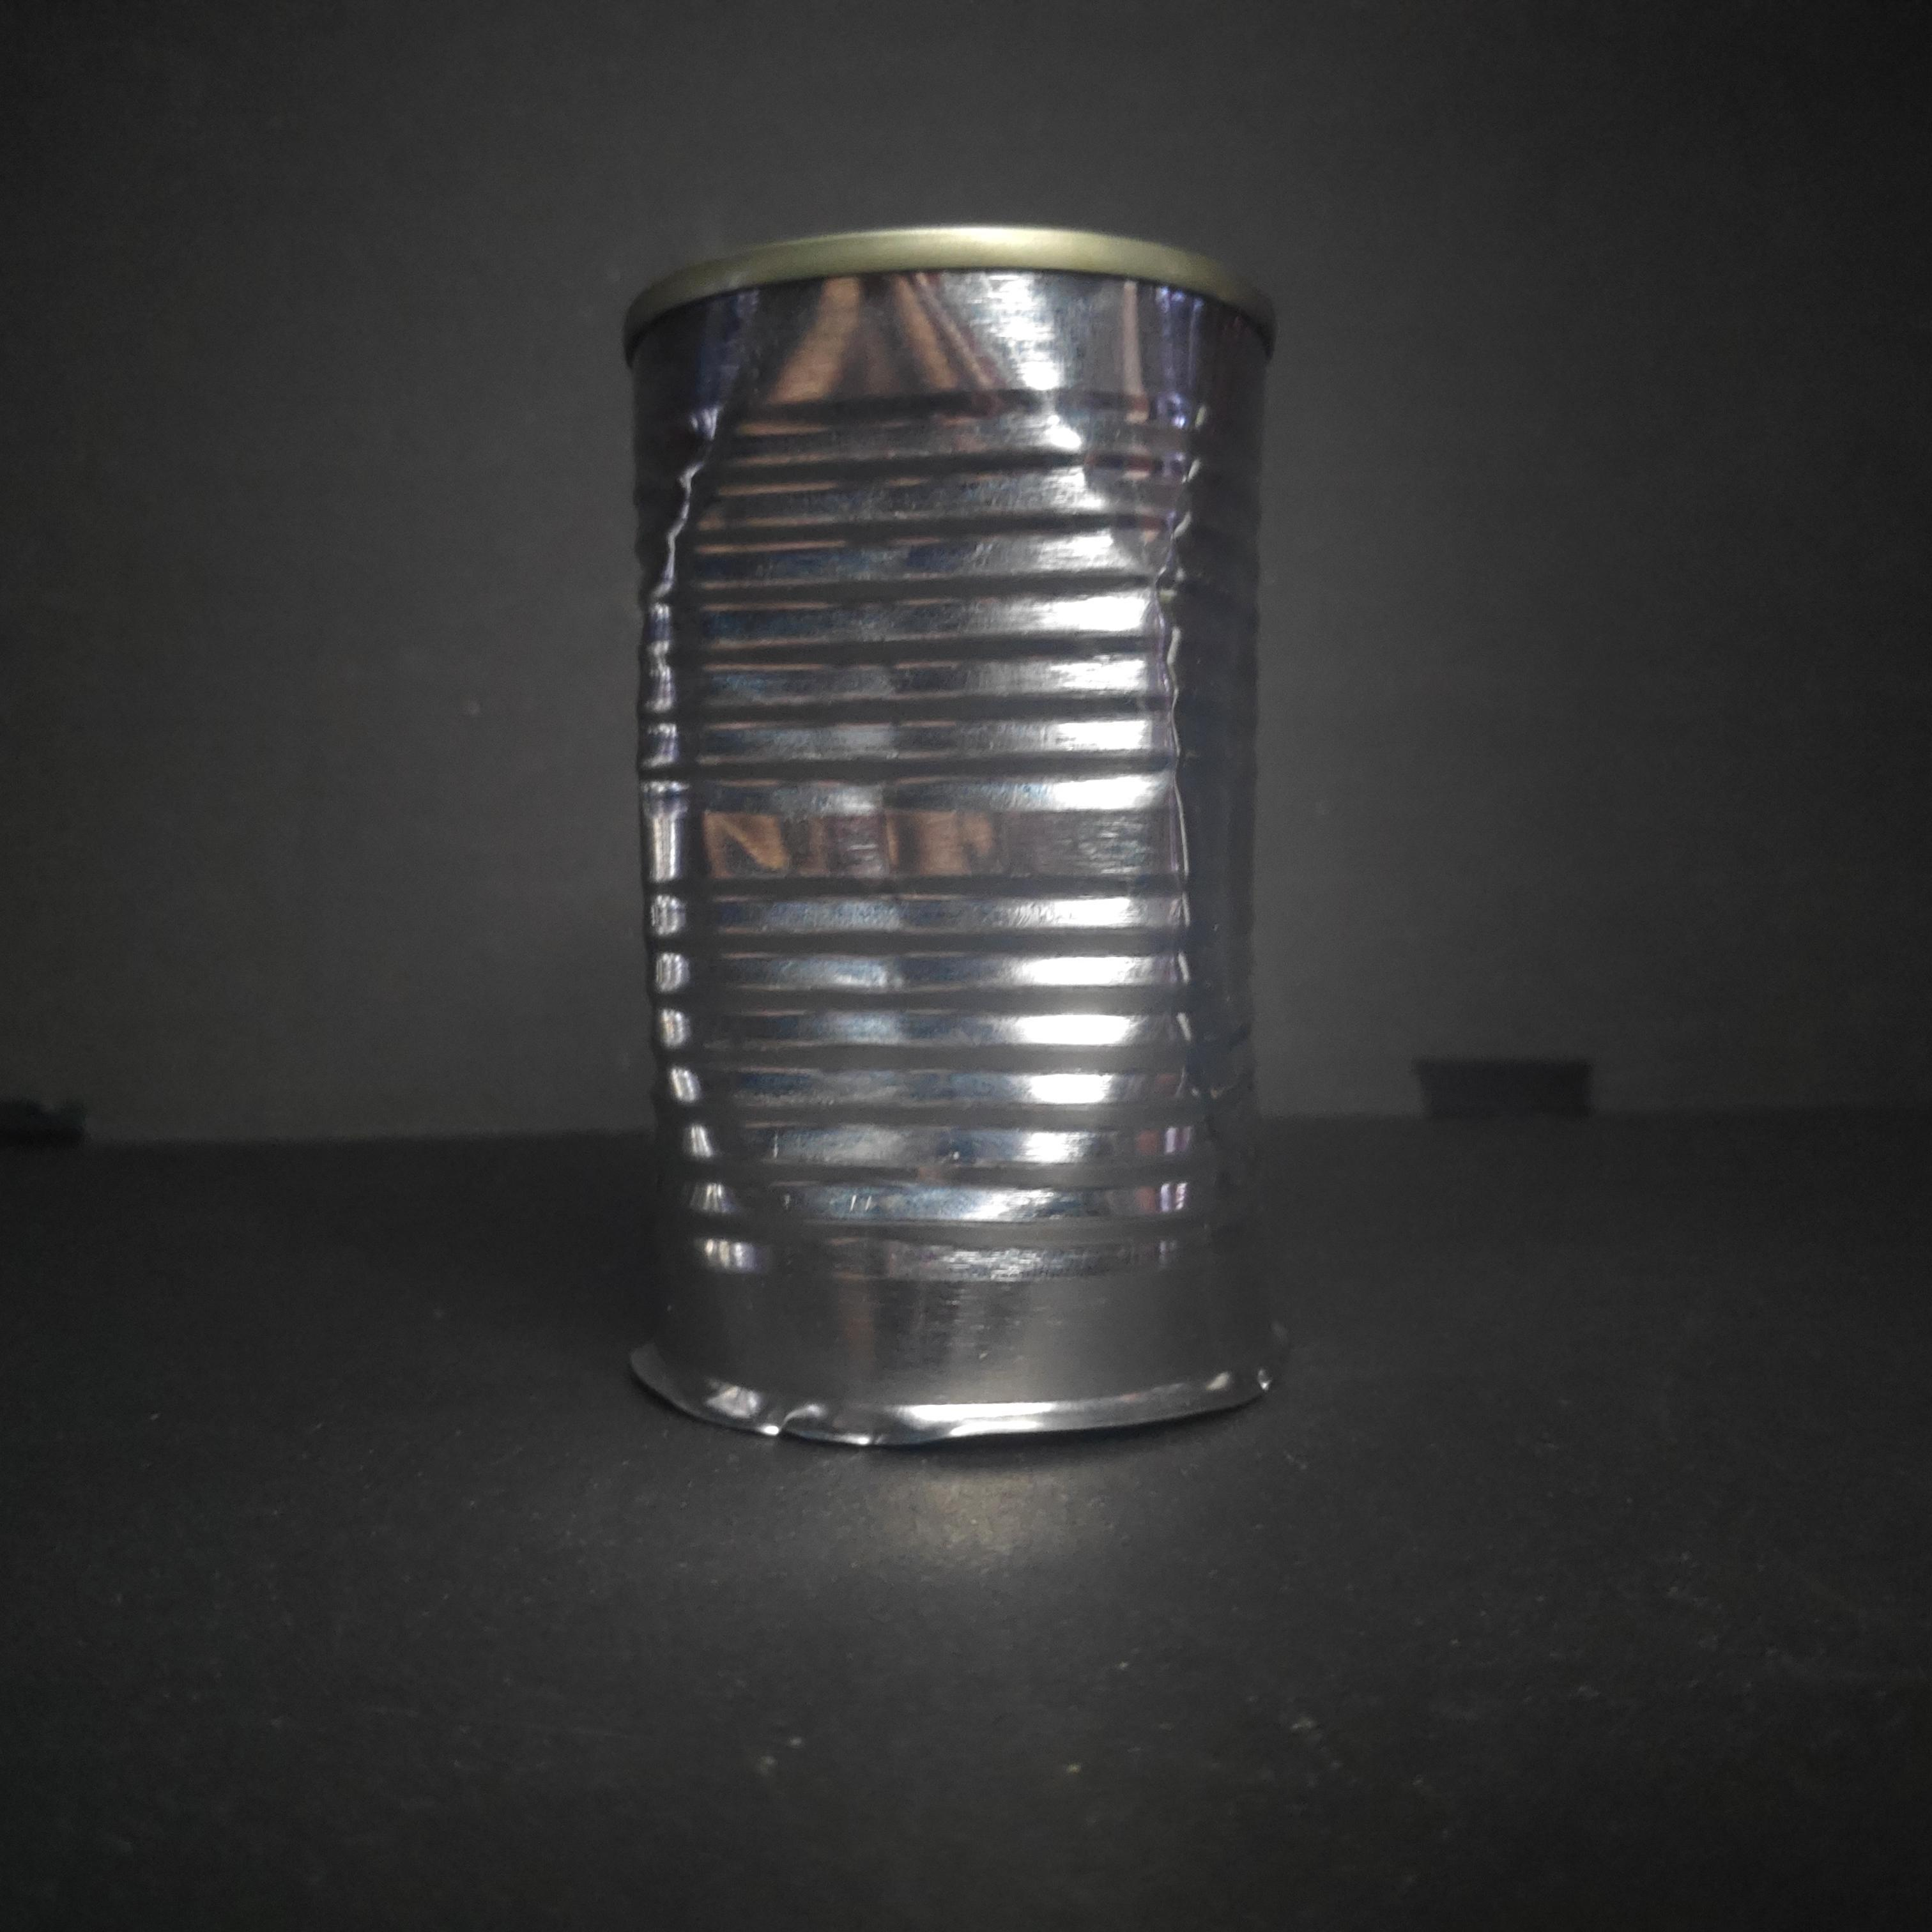Dented: (594, 198, 1297, 1460)
